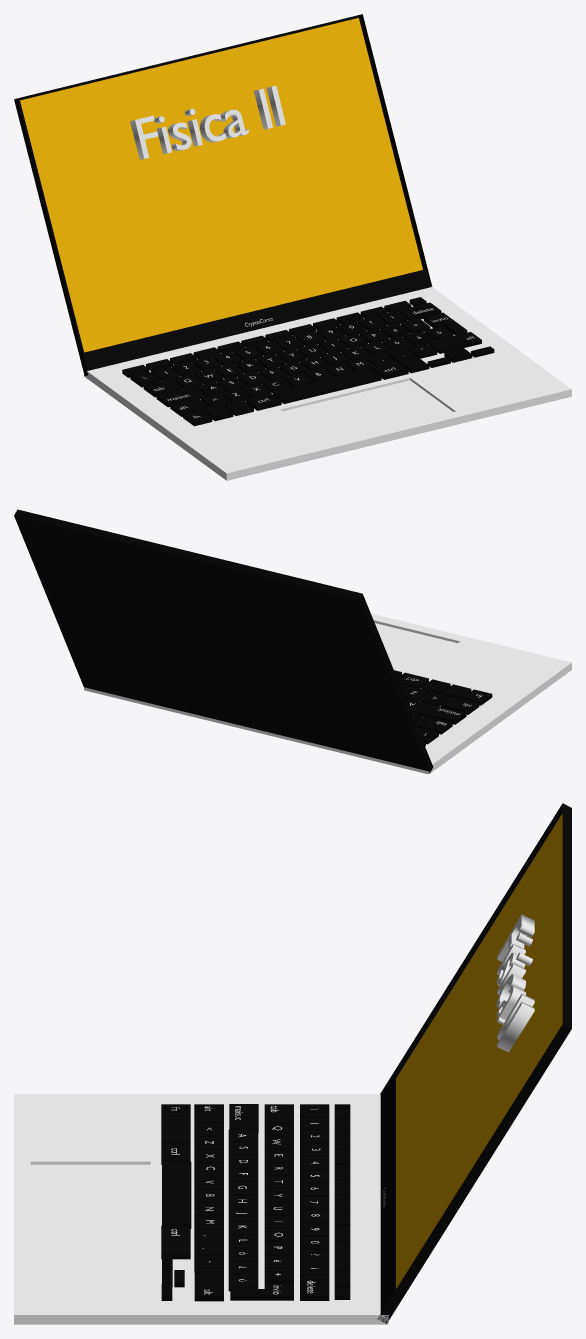
The model's file is fisica2.glb.
The picture shows the model from 3 angles, top to bottom: view 1: azimuth 30°, elevation 25°; view 2: azimuth 150°, elevation 25°; view 3: azimuth 270°, elevation 25°; orthographic projection. The views are drawn at different scales.
Visible parts, largest first — view 1: Cube.073, Cube, Cube.074, Cube.001, Text, Cube.072, Cube.123; view 2: Cube.001, Cube, Cube.065, Cube.064, Cube.066, Cube.071; view 3: Cube, Cube.073, Cube.001, Text, Cube.074, Cube.072, Cube.123, Cube.065, Cube.027.
Boxes of the visible parts, box(x1,y1,x2,y2) form: Cube.073: box(20, 18, 422, 352); Cube: box(84, 286, 571, 480); Cube.074: box(82, 269, 431, 370); Cube.001: box(14, 14, 432, 375); Text: box(130, 85, 285, 159); Cube.072: box(272, 368, 381, 403); Cube.123: box(428, 332, 481, 353); Cube.001: box(14, 509, 433, 772); Cube: box(84, 613, 571, 774); Cube.065: box(417, 703, 466, 724); Cube.064: box(440, 696, 479, 714); Cube.066: box(415, 716, 452, 734); Cube.071: box(397, 672, 428, 688); Cube: box(14, 1094, 388, 1324); Cube.073: box(396, 813, 562, 1288); Cube.001: box(377, 803, 571, 1323); Text: box(496, 914, 534, 1052); Cube.074: box(380, 1077, 396, 1313); Cube.072: box(162, 1161, 191, 1228); Cube.123: box(194, 1269, 223, 1301); Cube.065: box(229, 1104, 258, 1132); Cube.027: box(300, 1276, 329, 1300).
Size of the model in its own units: 6.79 by 4.31 by 7.25.
